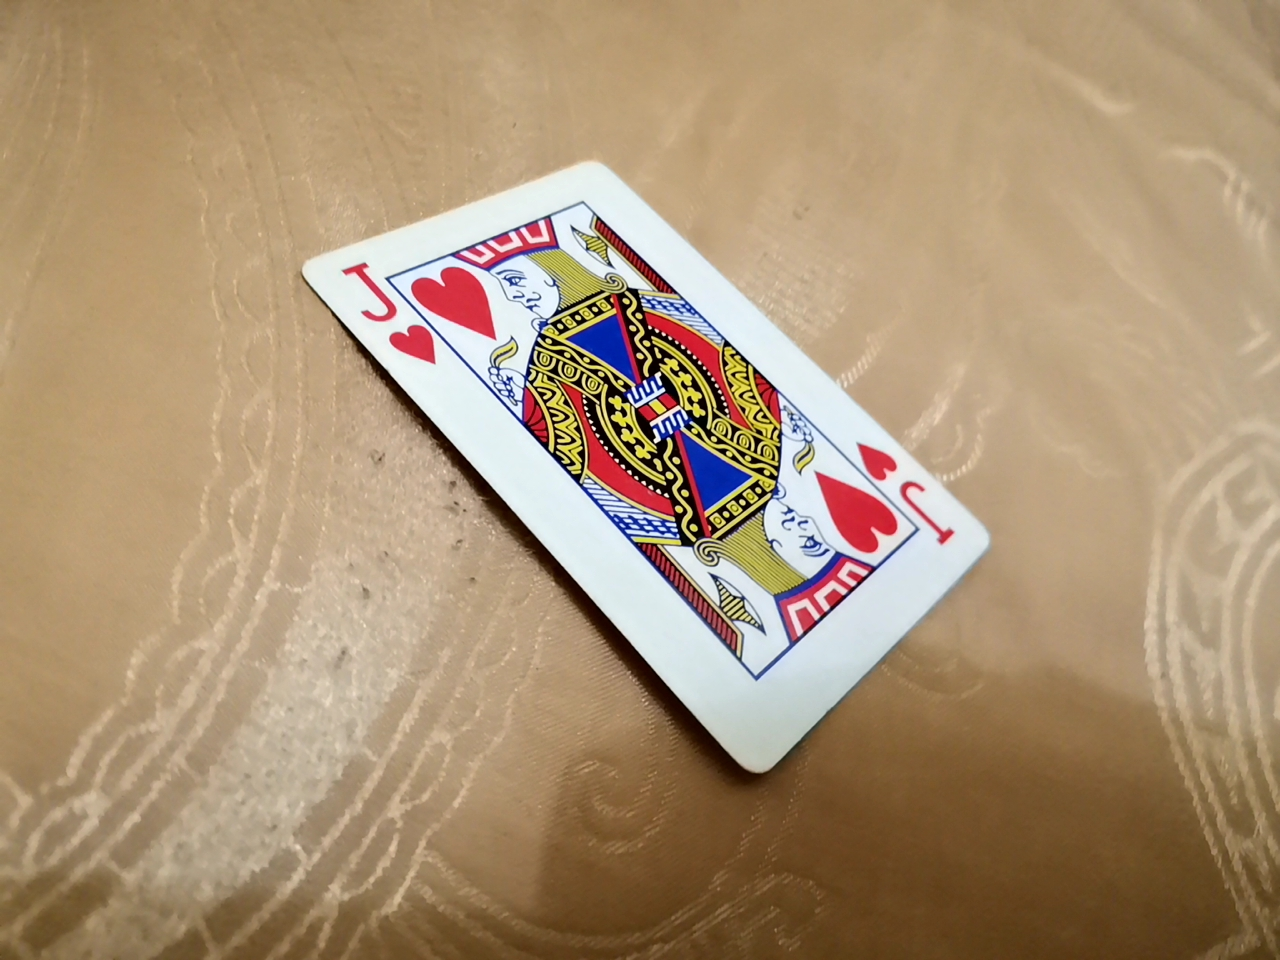hx j: (278, 153, 1002, 785)
